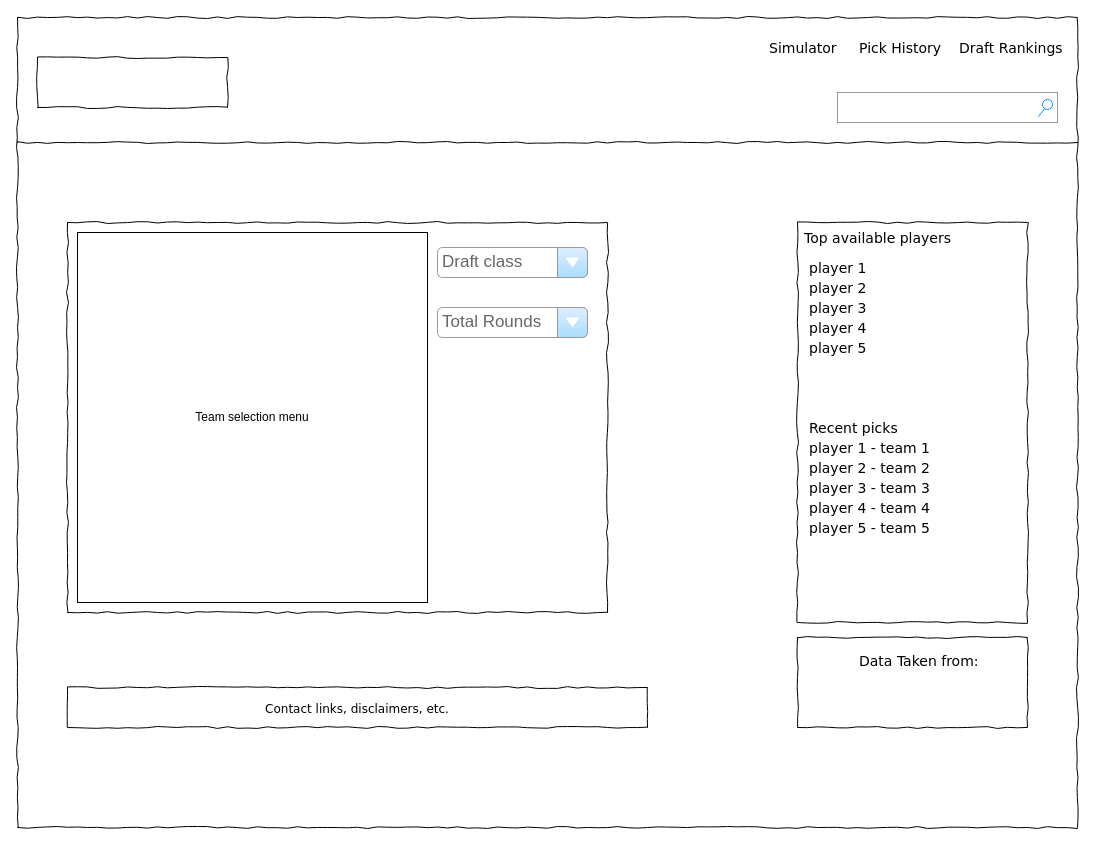
The diagram is 1095 pixels wide and 845 high, and some of its shapes have lost their labels. Here are the shapes that lost their labels. From the top down, the centre of each, then its label:
the point at 132,82: LOGO
the point at 947,107: Search
